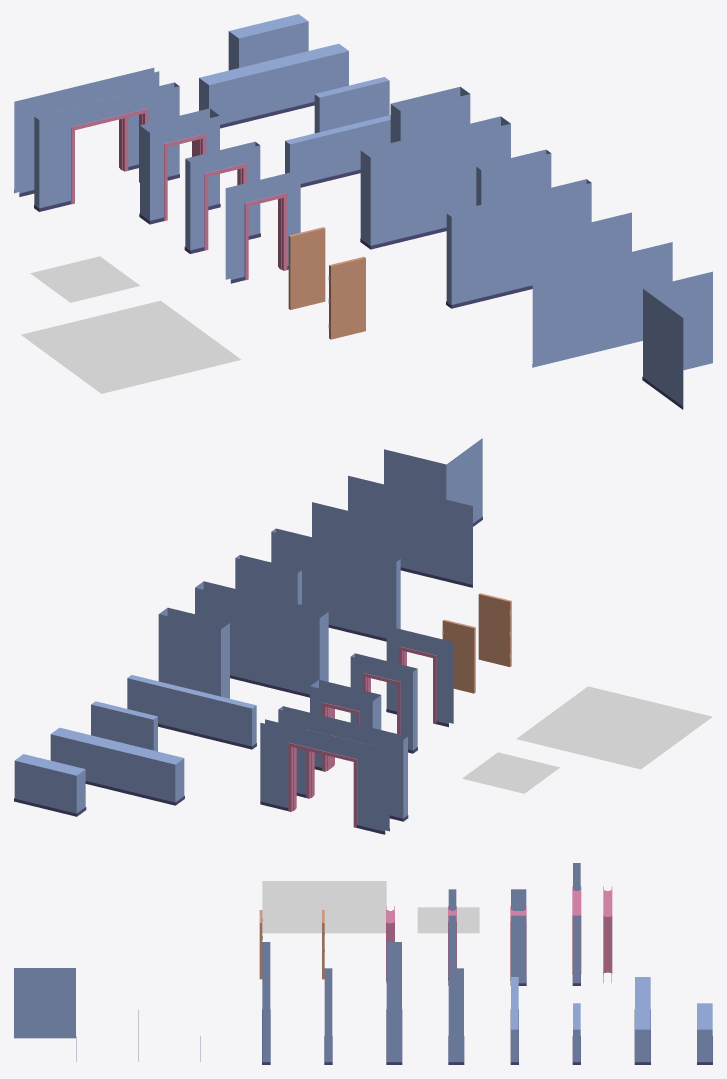
Rendered from GroKit_ModularWalls_Pack01.fbx.
The picture shows the model from 3 angles, top to bottom: view 1: azimuth 30°, elevation 25°; view 2: azimuth 150°, elevation 25°; view 3: azimuth 270°, elevation 25°; orthographic projection. The views are drawn at different scales.
Visible parts, largest first — view 1: FullWall_Divider_HalfThick, FullWall_Divider_QuarterThick, FullWall_Flat, Floor_Ceiling_FullSize, FullWall_HalfHeight_HalfThick, DoubleDoorWall_Divider_QuarterThick, HalfWall_Corner, DoorWall_Divider_HalfThick, FullWall_HalfHeight_QuarterThick, DoorWall_Divider_QuarterThick, HalfWall_DoubleDoorway_1, HalfWall_Doorway_1 (+10 smaller); view 2: FullWall_Divider_HalfThick, FullWall_Divider_QuarterThick, Floor_Ceiling_FullSize, FullWall_Flat, HalfWall_DoubleDoorway_2, FullWall_HalfHeight_HalfThick, FullWall_HalfHeight_QuarterThick, HalfWall_Divider_HalfThick, DoubleDoorWall_Divider_QuarterThick, HalfWall_Corner, HalfWall_HalfHeight_HalfThick, DoorWall_Divider_QuarterThick (+10 smaller); view 3: Floor_Ceiling_FullSize, HalfWall_Corner, FullWall_Divider_HalfThick, HalfWall_Divider_HalfThick, DoorWall_Divider_HalfThick, FullWall_HalfHeight_HalfThick, Floor_Ceiling_HalfSize, DoubleDoorWall_Divider_QuarterThick, FullWall_Divider_QuarterThick, HalfWall_HalfHeight_HalfThick, HalfWall_Divider_QuarterThick, FullWall_HalfHeight_QuarterThick (+3 smaller).
Boxes of the visible parts, x1,y1,x2,y2 form: FullWall_Divider_HalfThick: (360, 116, 510, 249); FullWall_Divider_QuarterThick: (446, 179, 591, 308); FullWall_Flat: (532, 242, 672, 367); Floor_Ceiling_FullSize: (21, 300, 241, 393); FullWall_HalfHeight_HalfThick: (199, 43, 348, 128); DoubleDoorWall_Divider_QuarterThick: (34, 82, 179, 211); HalfWall_Corner: (642, 271, 712, 409); DoorWall_Divider_HalfThick: (139, 108, 220, 224); FullWall_HalfHeight_QuarterThick: (285, 115, 390, 187); DoorWall_Divider_QuarterThick: (184, 141, 260, 253); HalfWall_DoubleDoorway_1: (19, 71, 159, 196); HalfWall_Doorway_1: (230, 175, 300, 283); FullWall_Divider_HalfThick: (195, 581, 328, 697); FullWall_Divider_QuarterThick: (271, 528, 400, 641); Floor_Ceiling_FullSize: (516, 686, 712, 769); FullWall_Flat: (348, 475, 472, 587); HalfWall_DoubleDoorway_2: (260, 722, 385, 834); FullWall_HalfHeight_HalfThick: (50, 727, 184, 805); FullWall_HalfHeight_QuarterThick: (127, 675, 256, 749); HalfWall_Divider_HalfThick: (158, 607, 229, 698); DoubleDoorWall_Divider_QuarterThick: (278, 706, 408, 821); HalfWall_Corner: (384, 438, 482, 526); HalfWall_HalfHeight_HalfThick: (14, 754, 86, 816); DoorWall_Divider_QuarterThick: (350, 653, 417, 753); Floor_Ceiling_FullSize: (262, 881, 386, 933); HalfWall_Corner: (14, 968, 76, 1061); FullWall_Divider_HalfThick: (386, 942, 402, 1064); HalfWall_Divider_HalfThick: (448, 968, 464, 1064); DoorWall_Divider_HalfThick: (510, 889, 526, 985); FullWall_HalfHeight_HalfThick: (634, 977, 650, 1064); Floor_Ceiling_HalfSize: (417, 907, 479, 933); DoubleDoorWall_Divider_QuarterThick: (572, 863, 581, 985); FullWall_Divider_QuarterThick: (262, 942, 270, 1064); HalfWall_HalfHeight_HalfThick: (697, 1003, 712, 1064); HalfWall_Divider_QuarterThick: (324, 968, 332, 1064); FullWall_HalfHeight_QuarterThick: (510, 977, 518, 1064).
Size of the model in its own units: 1401 by 250 by 2251.
